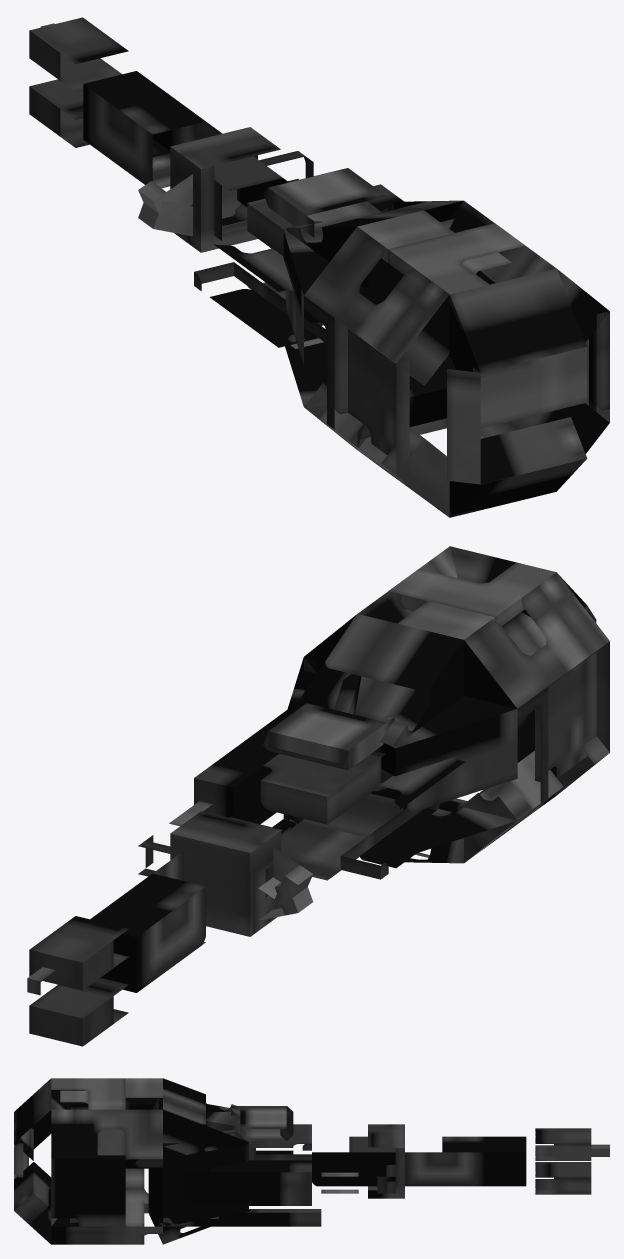
The model's file is static_cannon_turret.obj.
The picture shows the model from 3 angles, top to bottom: view 1: azimuth 30°, elevation 25°; view 2: azimuth 150°, elevation 25°; view 3: azimuth 270°, elevation 25°; orthographic projection. The views are drawn at different scales.
Visible parts, largest first — view 1: cube32, cube11, cube13, cube6, cube3, cube44, cube2, cube24, cube1, cube25, cube21, cube38 (+13 smaller); view 2: cube18, cube21, cube11, cube32, cube44, cube23, cube3, cube24, cube25, cube1, cube38, cube9 (+11 smaller); view 3: cube32, cube12, cube29, cube4, cube22, cube18, cube10, cube13, cube6, cube31, cube1, cube36 (+16 smaller).
Boxes of the visible parts, <box> form: cube32: <box>83,71,288,240</box>; cube11: <box>304,227,449,385</box>; cube13: <box>449,268,587,372</box>; cube6: <box>449,417,587,517</box>; cube3: <box>334,318,409,474</box>; cube44: <box>170,127,280,252</box>; cube2: <box>473,347,587,428</box>; cube24: <box>194,244,326,347</box>; cube1: <box>388,223,525,294</box>; cube25: <box>268,168,386,237</box>; cube21: <box>283,229,364,407</box>; cube38: <box>29,17,128,91</box>; cube18: <box>288,614,463,782</box>; cube21: <box>374,696,517,852</box>; cube11: <box>464,572,609,708</box>; cube32: <box>90,794,282,992</box>; cube44: <box>170,811,281,936</box>; cube23: <box>260,753,381,880</box>; cube3: <box>535,641,609,781</box>; cube24: <box>340,757,465,879</box>; cube25: <box>268,703,394,770</box>; cube1: <box>388,562,556,625</box>; cube38: <box>29,916,128,990</box>; cube9: <box>464,736,609,862</box>; cube32: <box>312,1136,526,1186</box>; cube12: <box>51,1109,162,1168</box>; cube29: <box>185,1160,311,1205</box>; cube4: <box>51,1155,125,1226</box>; cube22: <box>148,1129,248,1226</box>; cube18: <box>152,1078,248,1154</box>; cube10: <box>51,1200,162,1244</box>; cube13: <box>14,1078,70,1160</box>; cube6: <box>14,1162,51,1244</box>; cube31: <box>163,1209,321,1226</box>; cube1: <box>51,1078,125,1109</box>; cube36: <box>535,1162,591,1194</box>.
Bounding box in the file's own units: 1 × 1 × 4.
